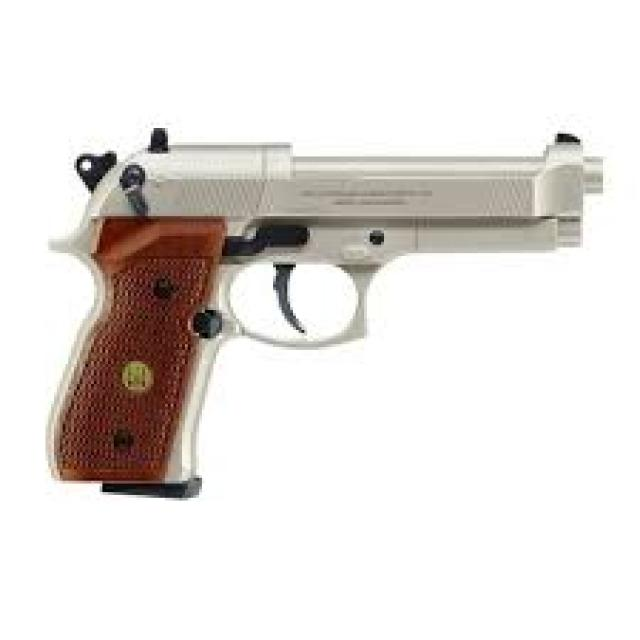pistol: (39, 125, 610, 512)
